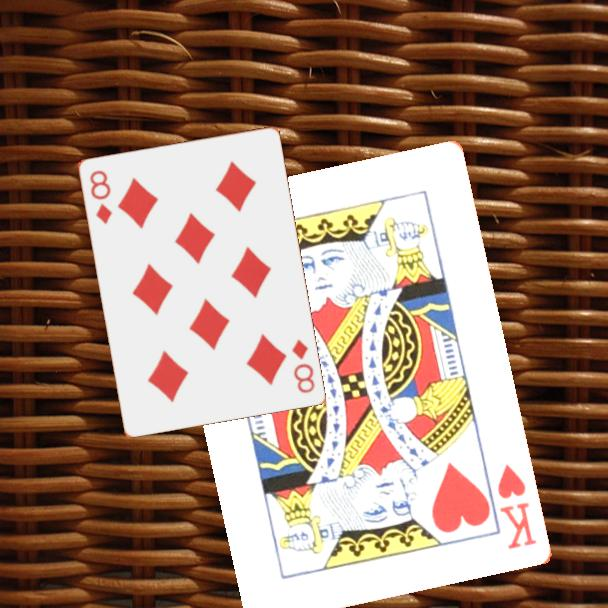d08: (288, 335, 317, 396), (86, 166, 114, 227)
h13: (494, 461, 540, 553)
